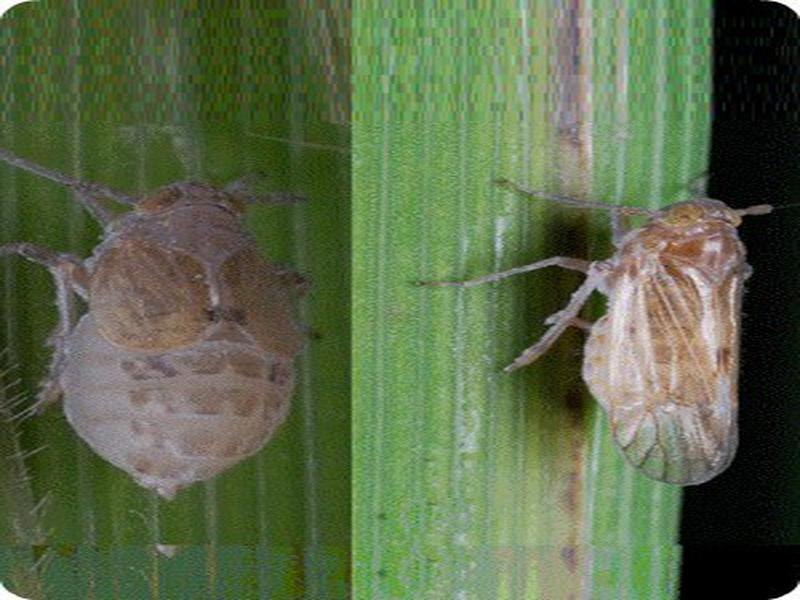Brown_plant_leafhopper: (20, 173, 310, 504), (506, 174, 764, 495)
